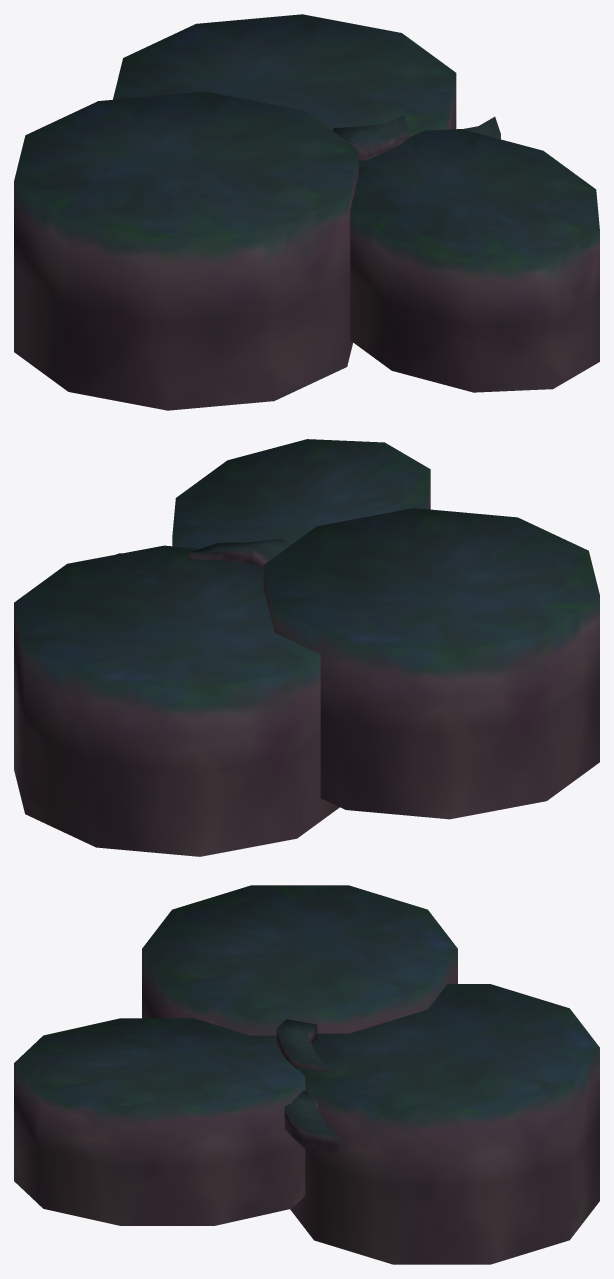
The model's file is ground_guide.fbx.
3 views of the same model, one above another, from view 1: azimuth 30°, elevation 25°; view 2: azimuth 150°, elevation 25°; view 3: azimuth 270°, elevation 25° (orthographic). The views are drawn at different scales.
Parts seen in each view (by area): view 1: Prop_1__2_, Prop_1__4_, Prop_1__3_, Prop_2; view 2: Prop_1__2_, Prop_1__3_, Prop_1__4_, Prop_2; view 3: Prop_1__3_, Prop_1__4_, Prop_1__2_, Prop_2__1_, Prop_2.
Part boxes in pixels (x1=…): Prop_1__2_: x1=14, y1=91, x2=358, y2=410; Prop_1__4_: x1=350, y1=129, x2=599, y2=392; Prop_1__3_: x1=113, y1=14, x2=456, y2=137; Prop_2: x1=333, y1=115, x2=408, y2=160; Prop_1__2_: x1=263, y1=508, x2=599, y2=819; Prop_1__3_: x1=14, y1=545, x2=339, y2=856; Prop_1__4_: x1=172, y1=439, x2=430, y2=548; Prop_2: x1=190, y1=538, x2=291, y2=569; Prop_1__3_: x1=290, y1=984, x2=599, y2=1264; Prop_1__4_: x1=14, y1=1018, x2=305, y2=1225; Prop_1__2_: x1=142, y1=885, x2=457, y2=1035; Prop_2__1_: x1=284, y1=1091, x2=339, y2=1153; Prop_2: x1=276, y1=1019, x2=327, y2=1071.
Bounding box in the file's own units: 33169 × 12974 × 39405.
Materials: 1 (1 with a texture image).
